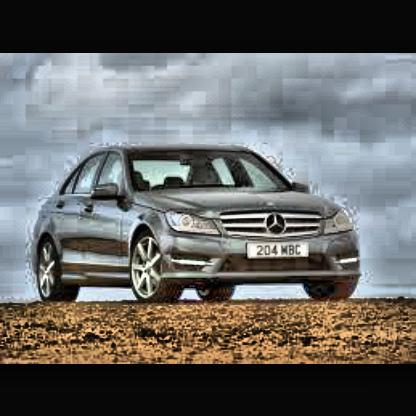Mercedes-Benz C-Class Sedan 2012: (26, 116, 366, 315)
